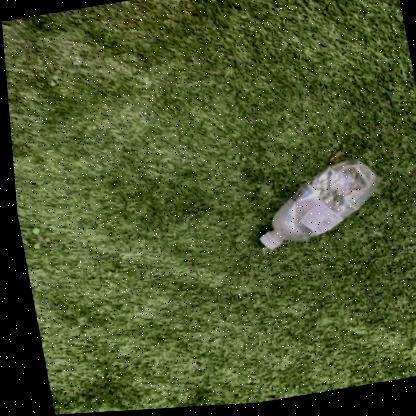Plastic: (255, 163, 377, 251)
